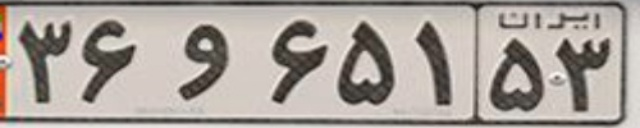1: (413, 19, 456, 106)
3: (554, 37, 612, 112), (18, 21, 70, 103)
5: (335, 22, 395, 104), (489, 36, 546, 110)
6: (267, 19, 327, 103), (78, 18, 133, 103)
vav: (174, 24, 231, 101)
